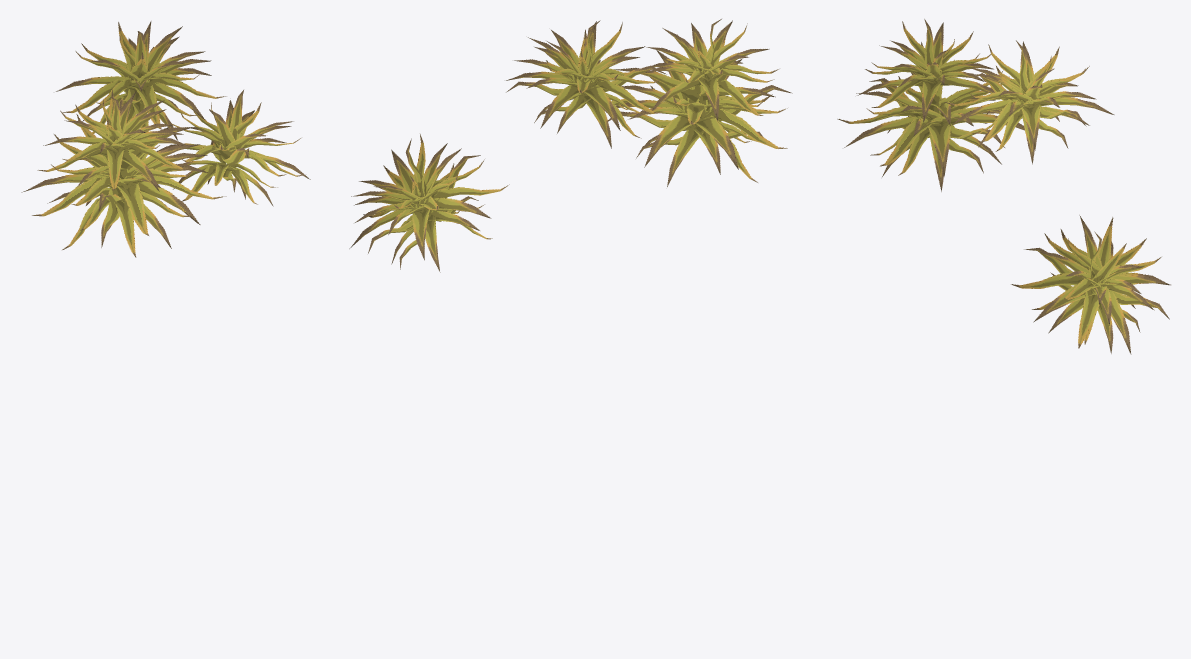
File: succulent_b.glb
3 views of the same model, side by side, from view 1: azimuth 30°, elevation 25°; view 2: azimuth 150°, elevation 25°; view 3: azimuth 270°, elevation 25° (orthographic). The views are drawn at different scales.
Visible parts, largest first — view 1: SM_Env_Succulent_06_LOD0; view 2: SM_Env_Succulent_06_LOD0; view 3: SM_Env_Succulent_06_LOD0.
Boxes of the visible parts, left/top/right/bottom form: SM_Env_Succulent_06_LOD0: left=21, top=21, right=310, bottom=257; SM_Env_Succulent_06_LOD0: left=349, top=19, right=792, bottom=272; SM_Env_Succulent_06_LOD0: left=837, top=19, right=1170, bottom=354.
Size of what is drawn, in the model's own units: 3.43 by 5.47 by 2.89.
Materials: 1 (1 with a texture image).
